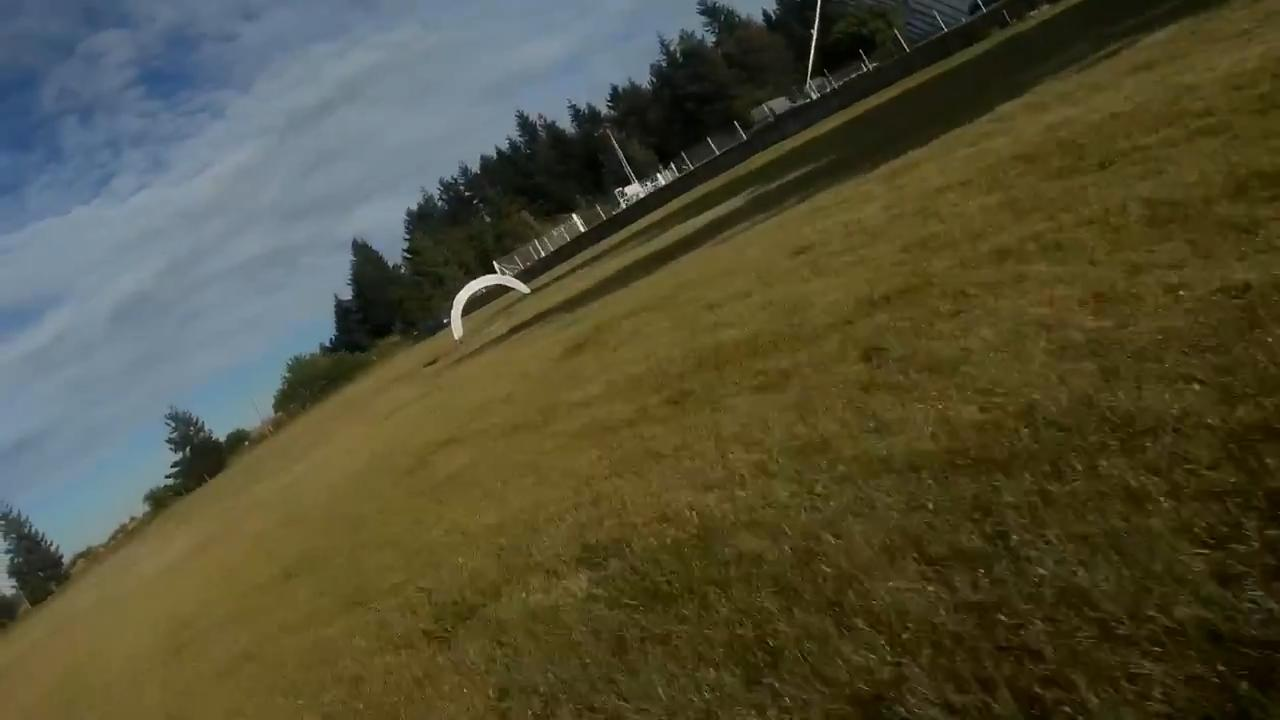gate: (448, 275, 529, 341)
